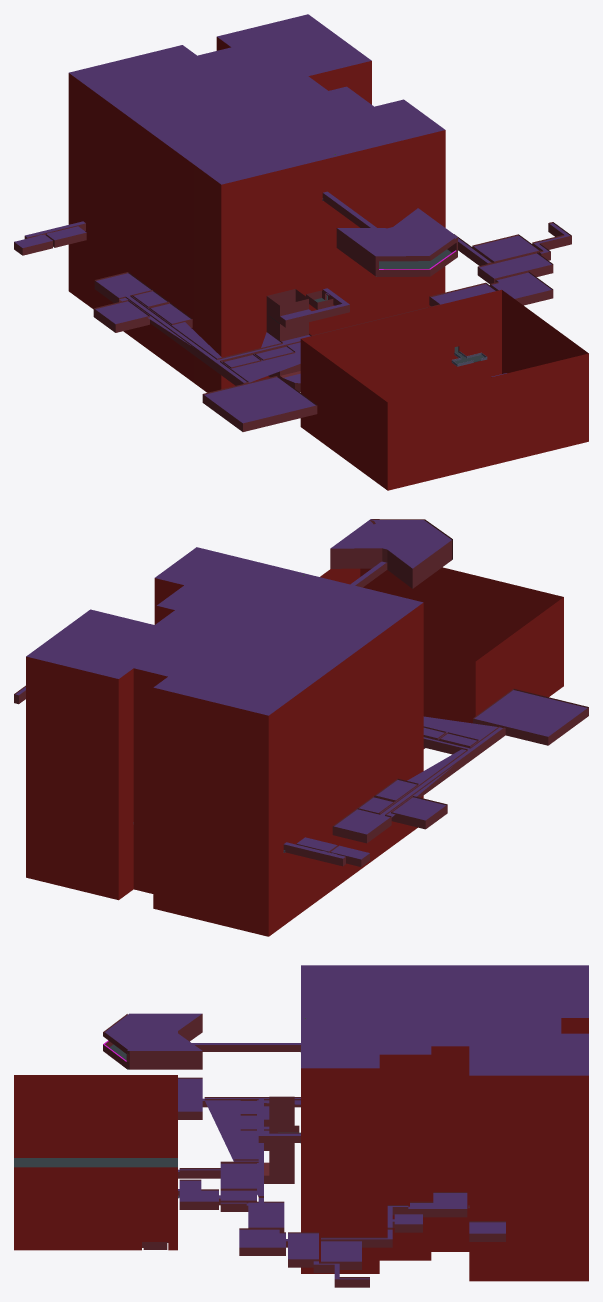
The model's file is map_layout.fbx.
3 renders of one model, top to bottom at view 1: azimuth 30°, elevation 25°; view 2: azimuth 150°, elevation 25°; view 3: azimuth 270°, elevation 25°, orthographic. The views are drawn at different scales.
Visible parts, largest first — view 1: wallBig, ceiling, wall, floor; view 2: wallBig, ceiling, wall; view 3: wallBig, ceiling, wall, floor.
Part boxes in pixels (x1,y1,x2,y2): wallBig: (68, 37, 588, 490); ceiling: (14, 14, 569, 423); wall: (14, 193, 571, 431); floor: (269, 249, 484, 363); wallBig: (26, 567, 563, 936); ceiling: (15, 519, 587, 859); wall: (14, 519, 588, 866); wallBig: (14, 1018, 588, 1281); ceiling: (105, 965, 588, 1279); wall: (103, 1014, 505, 1287); floor: (14, 1044, 300, 1167).
Size of the model in its own units: 18202 by 8615 by 21828.
